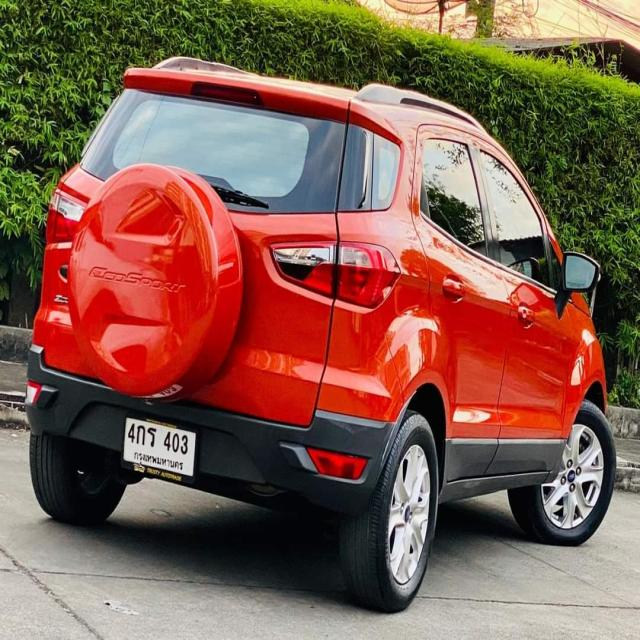license_plate: (119, 409, 201, 486)
